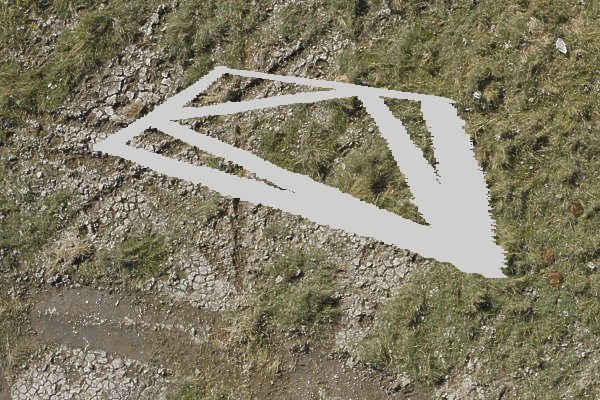marker: (91, 60, 523, 292)
